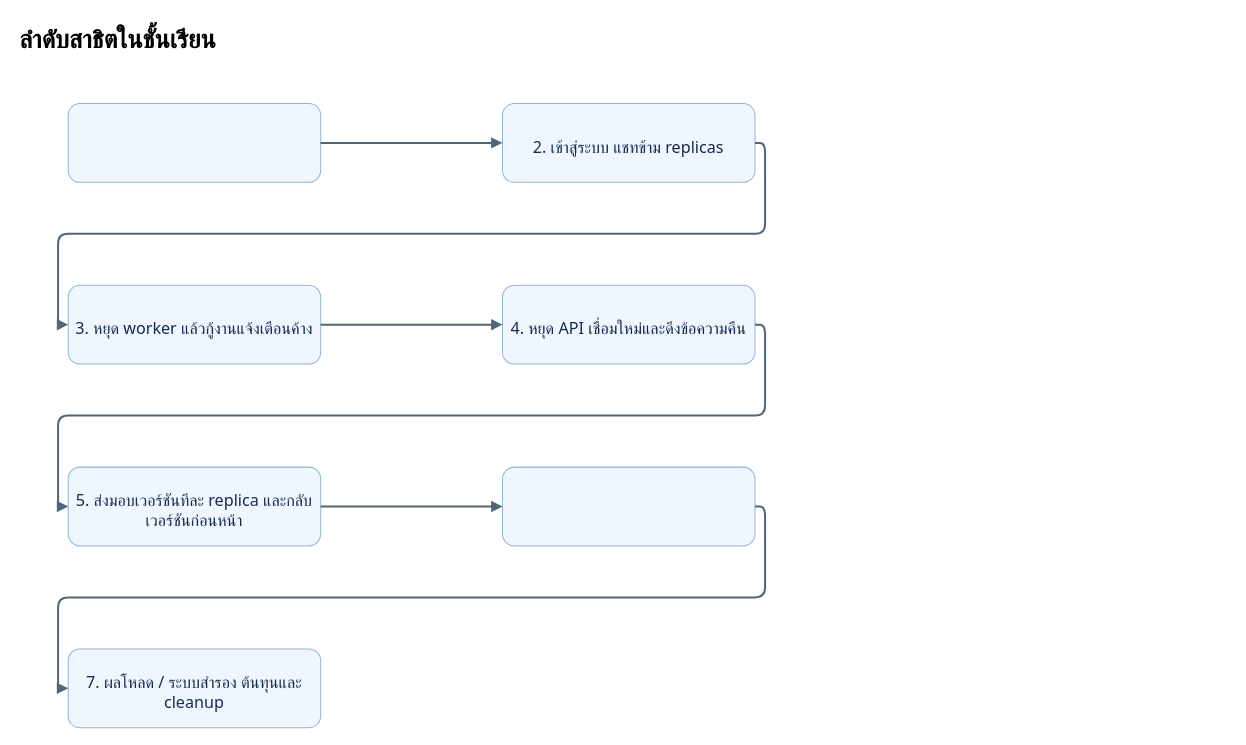
This 1246x745 diagram has some shape labels left out. Each missing label, with the centre of its shape:
"1. อธิบายภาพรวม และหน้าที่บริการ" belongs at point 194,142.
"6. แสดงกราฟ บันทึก และเส้นทางคำขอ" belongs at point 628,506.
